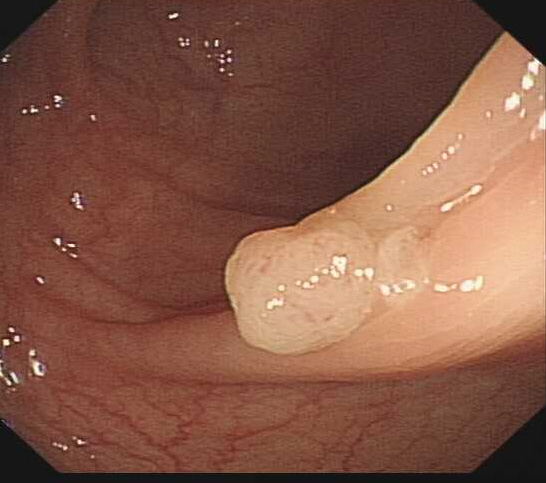adenoma: (218, 217, 434, 360)
